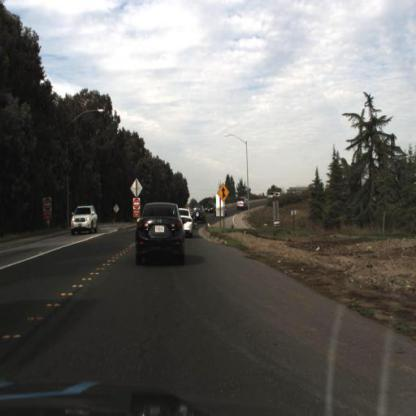car: (135, 203, 187, 273), (71, 204, 99, 238), (179, 207, 196, 248), (192, 203, 208, 227), (236, 194, 250, 212)
